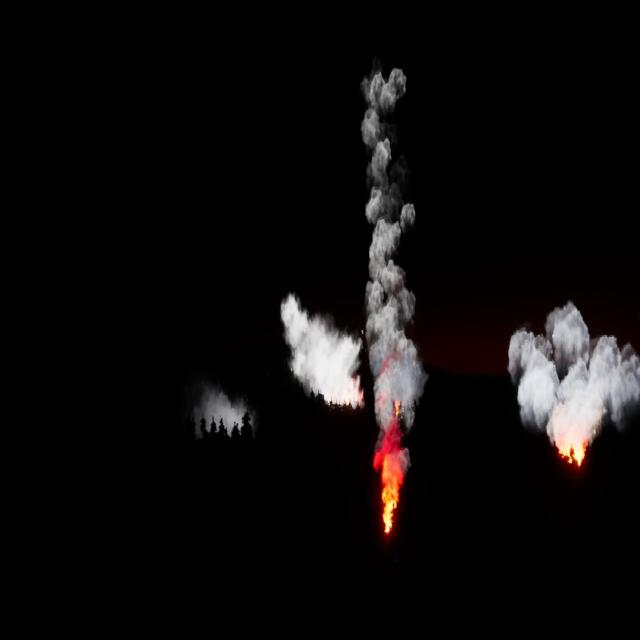fire: (371, 433, 410, 536), (558, 423, 594, 467)
smoke: (282, 66, 428, 462), (505, 298, 640, 462), (189, 380, 247, 438)
